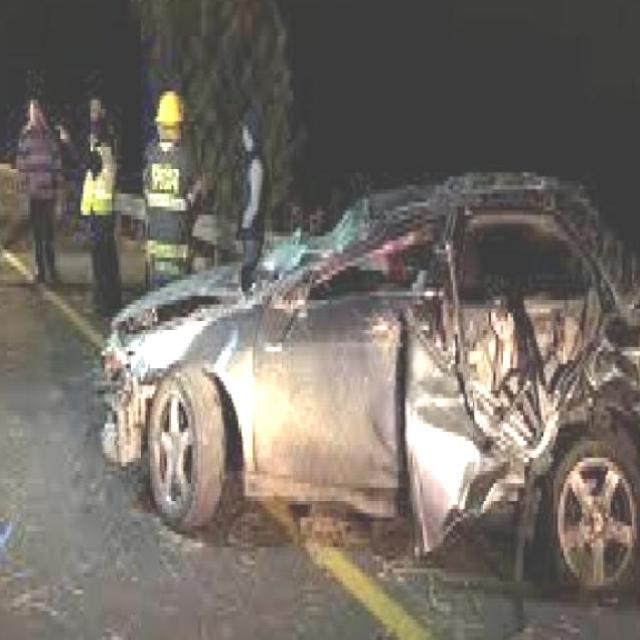accident: (92, 151, 640, 599)
